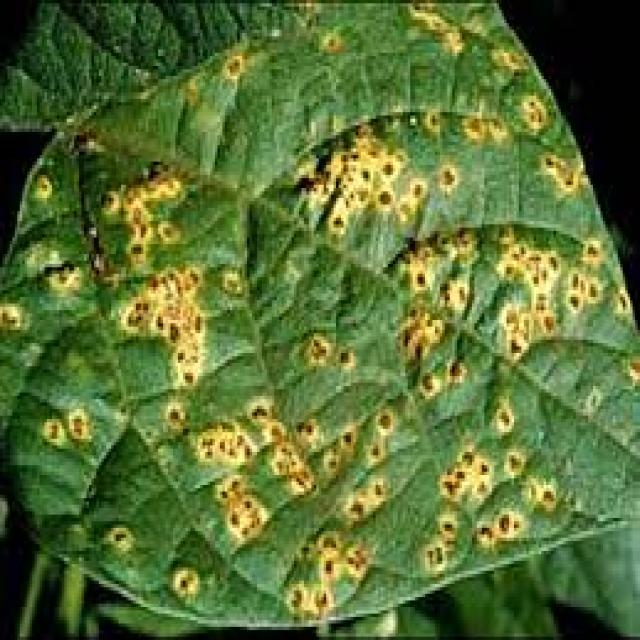bercak_daun: (44, 164, 604, 556)
